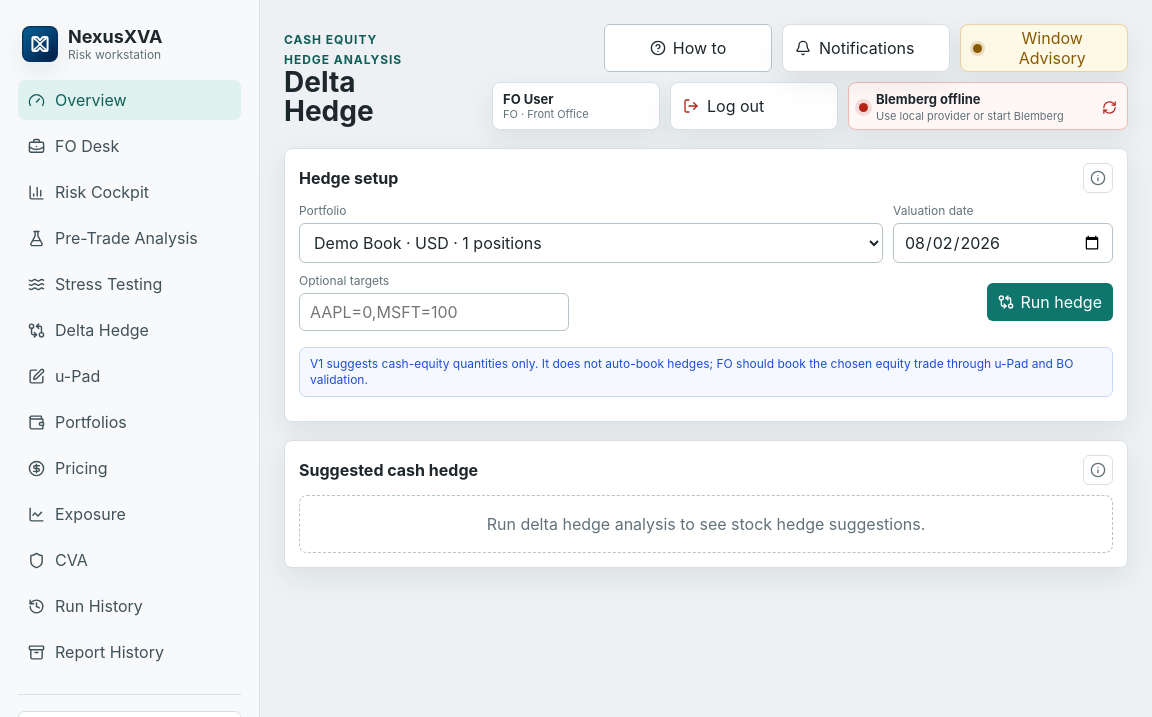
Test: Dashboard › runs delta hedge analysis and displays cash equity suggestions
This screenshot has width=1152, height=717.
Expected: the heading "Hedge setup" is shown, left=299, top=168, right=398, bottom=188
Click the button "Run hedge" at coordinates (1050, 302), box left=987, top=283, right=1113, bottom=321
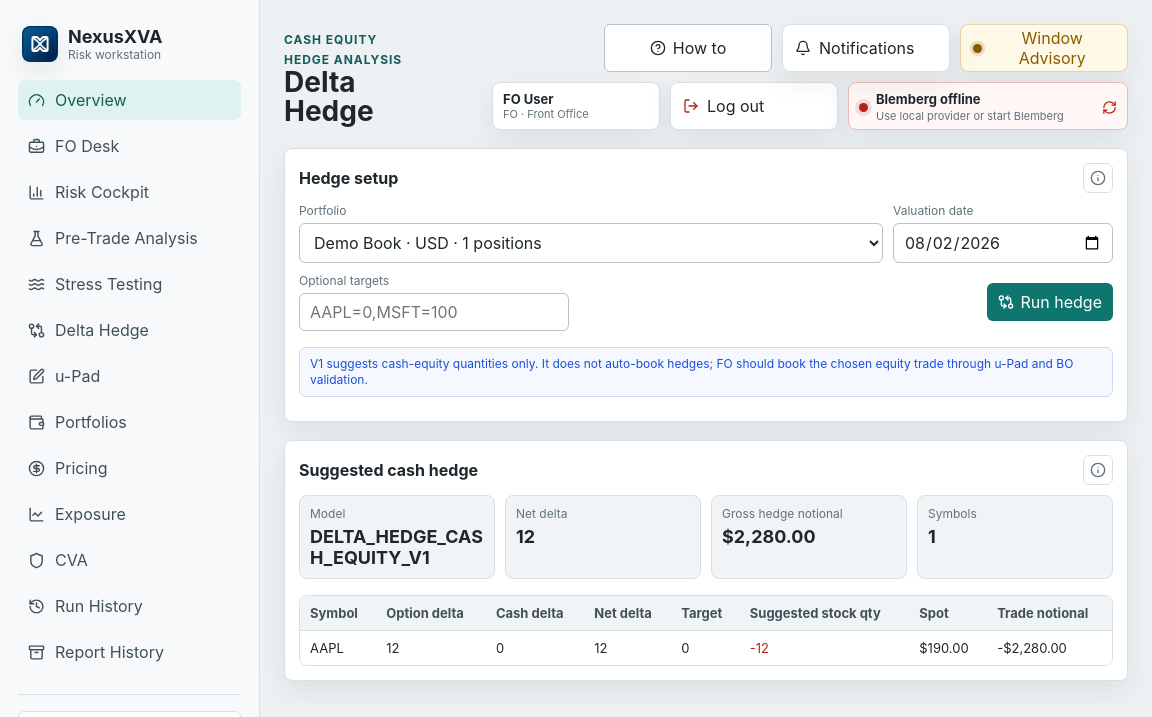
Expected: the heading "Suggested cash hedge" is shown, left=299, top=460, right=478, bottom=480
Now the text "Net delta" is shown, box left=516, top=506, right=568, bottom=521
Now the text "-12" is shown, box left=740, top=631, right=909, bottom=665
